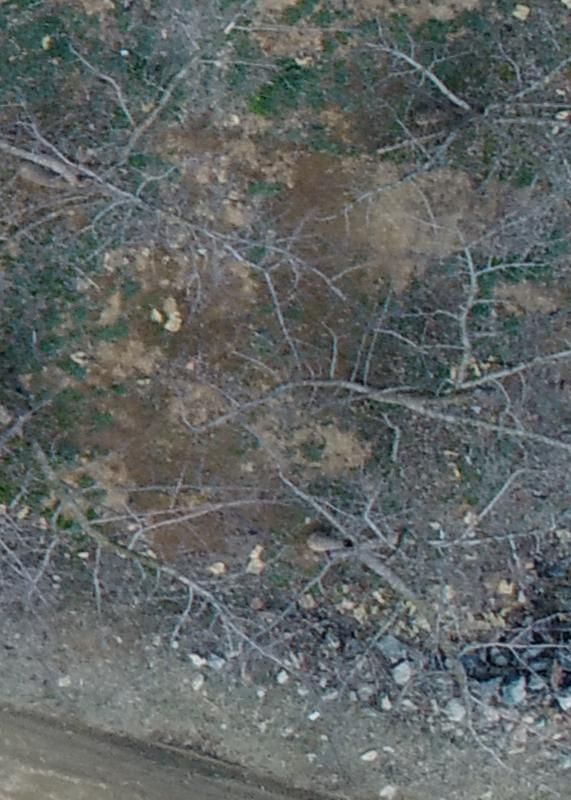apple: (216, 461, 542, 777), (10, 15, 346, 303), (235, 236, 561, 512), (10, 342, 248, 696)
